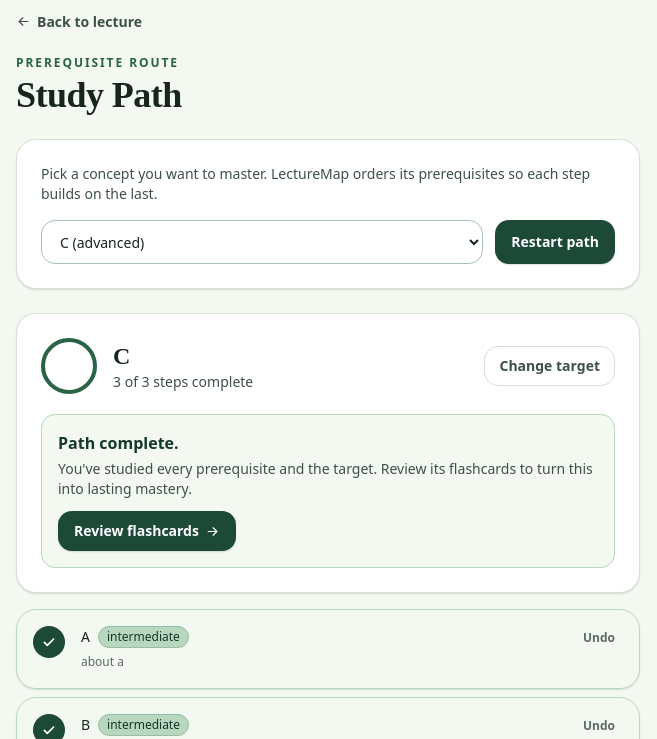
it: Study Path page › shows the completed state when every step is done and allows undo
Expected: the text "Path complete." is shown, [58,432,179,454]
Step 1. Click the button with aria-label "Undo B" → (599, 726), box [575,714,623,738]
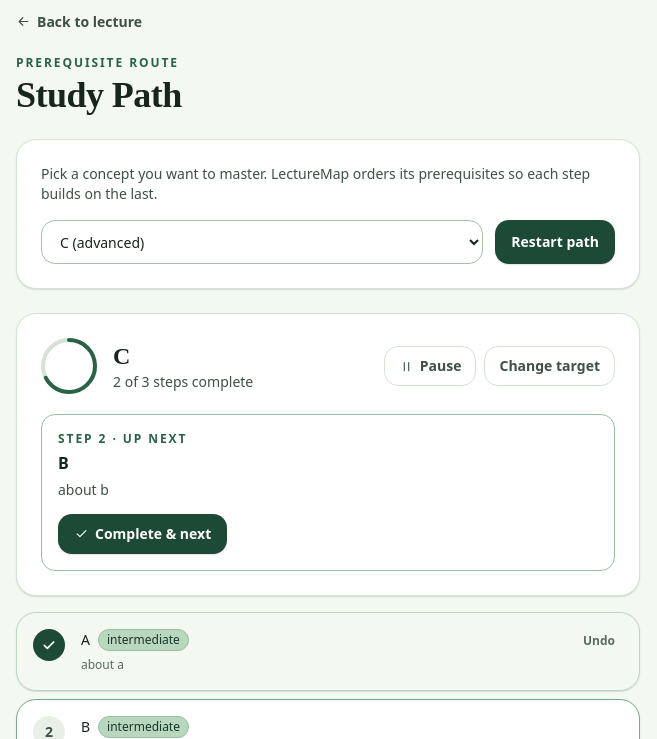
Expected: the element named "Current step" shows "B", [58,452,69,474]
